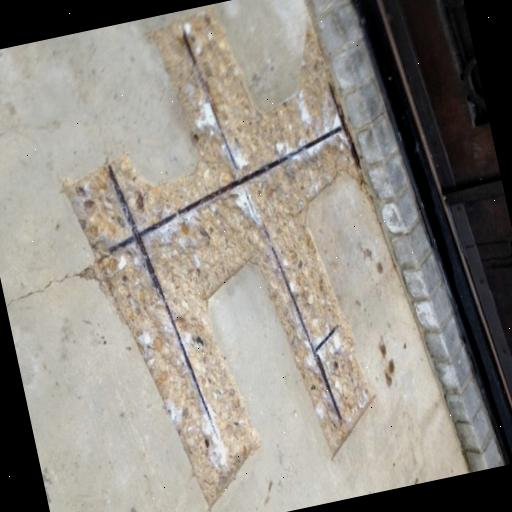spalling: (65, 14, 374, 503)
